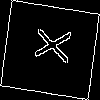X: (25, 24, 72, 65)
